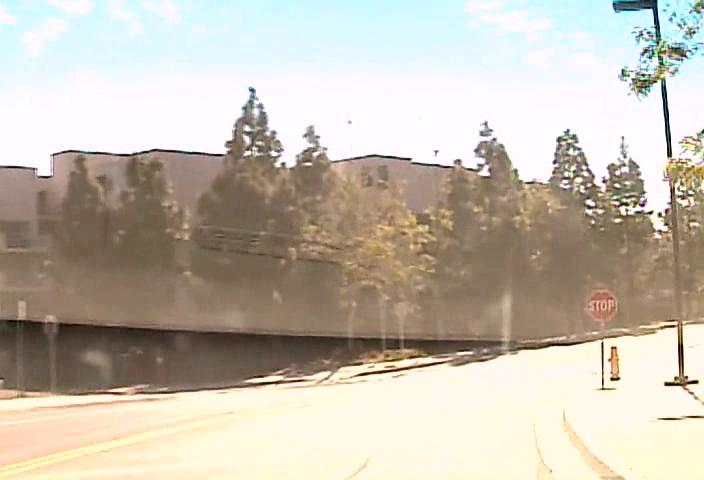stop: (585, 289, 617, 322)
